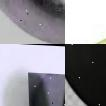ironball: (0, 0, 65, 44), (65, 44, 105, 105), (26, 71, 65, 105)
